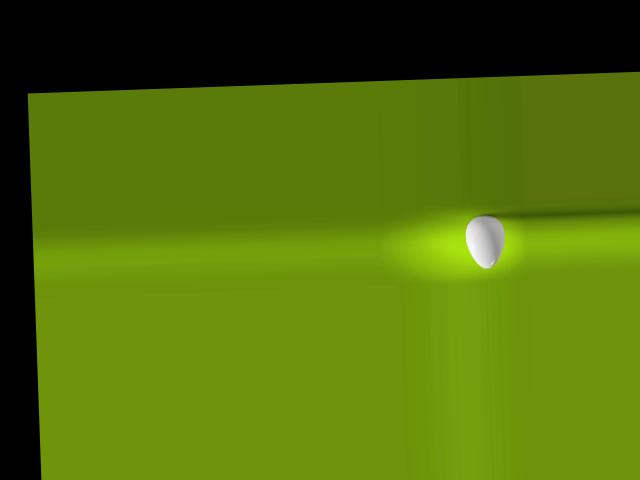egg: (465, 214, 506, 269)
